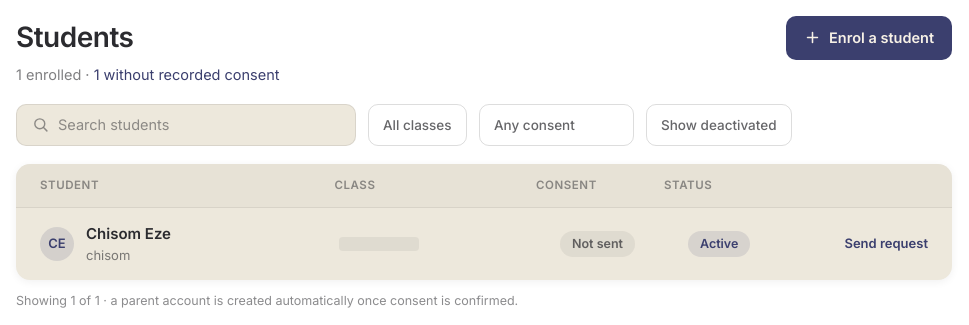
Test: sending a parent the consent request › holds the control while the request is in flight
What coordinates should you click on to do the following:
click the button "Send request"
I would click on:
 (886, 244)
Its box is [844,234,928,254].
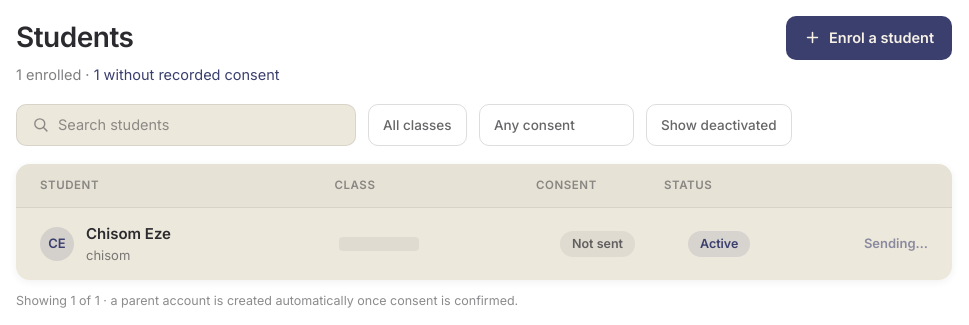
Result: the button "Sending…" is disabled at [864,234,928,254]
